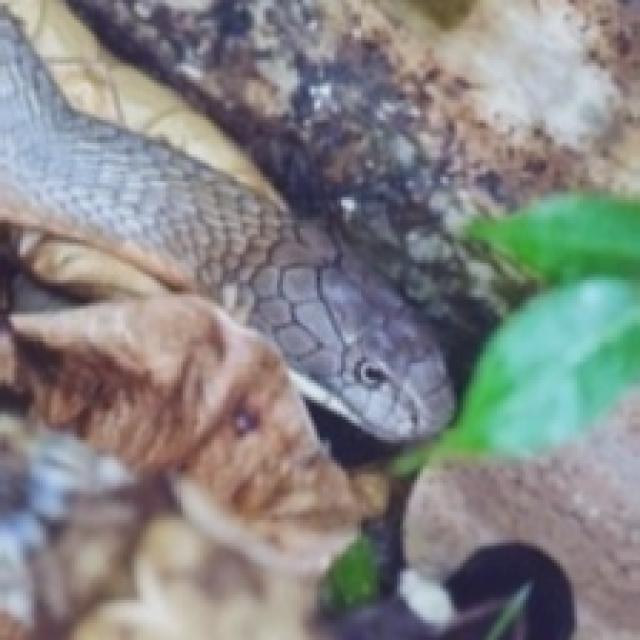king cobra: (0, 9, 451, 440)
